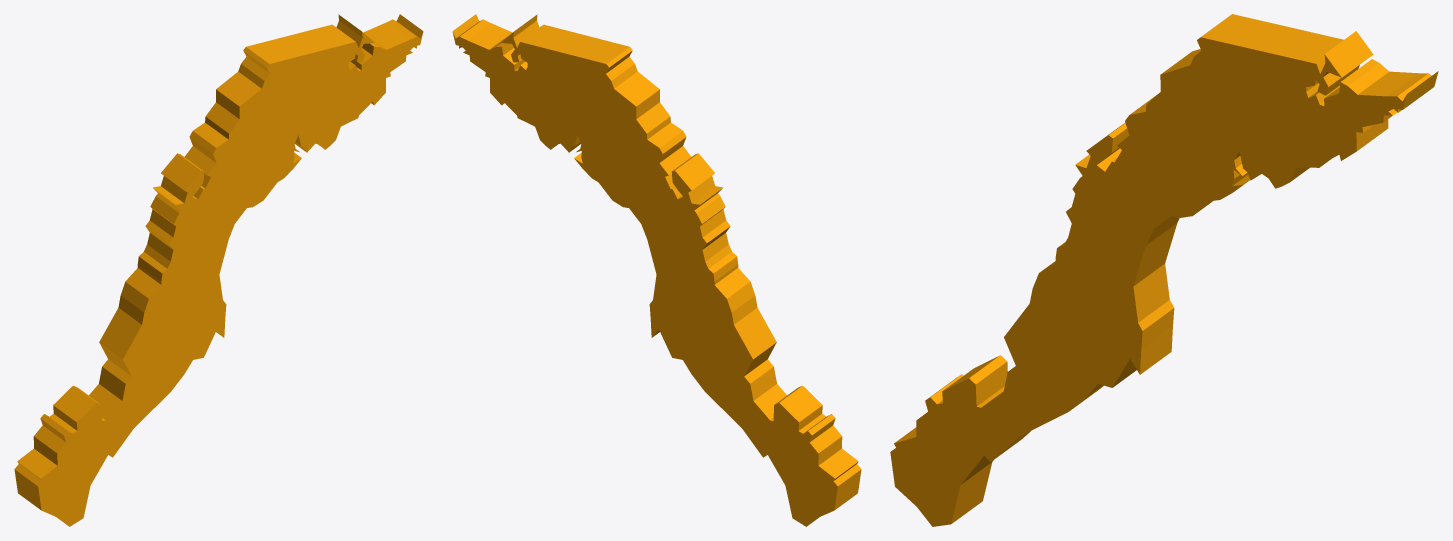
The model's file is baja_california_sur.glb.
3 renders of one model, left to right at view 1: azimuth 30°, elevation 25°; view 2: azimuth 150°, elevation 25°; view 3: azimuth 330°, elevation 25°, orthographic. The views are drawn at different scales.
Visible parts, largest first — view 1: Plano; view 2: Plano; view 3: Plano.
Boxes of the visible parts, x1,y1,x2,y2 form: Plano: (14, 14, 423, 526); Plano: (452, 14, 861, 526); Plano: (890, 14, 1438, 526).
Size of the model in its own units: 0.8788 by 0.924 by 0.0934.
Materials: 1 (1 with a texture image).
